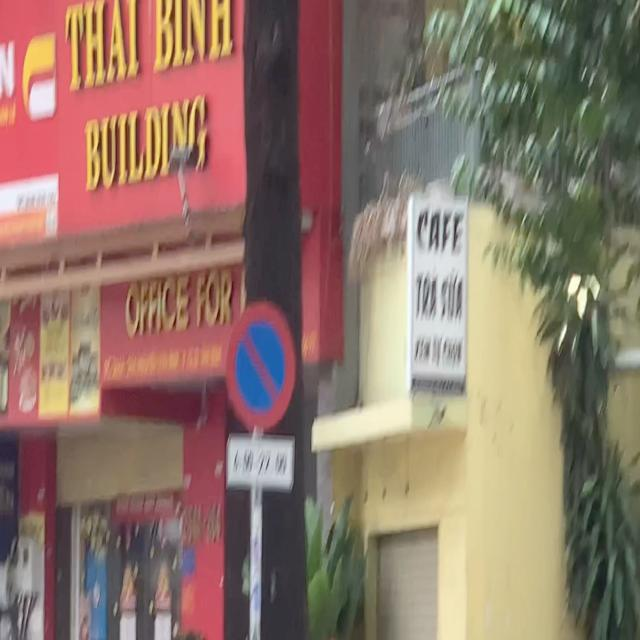Cam do: (225, 301, 296, 431)
